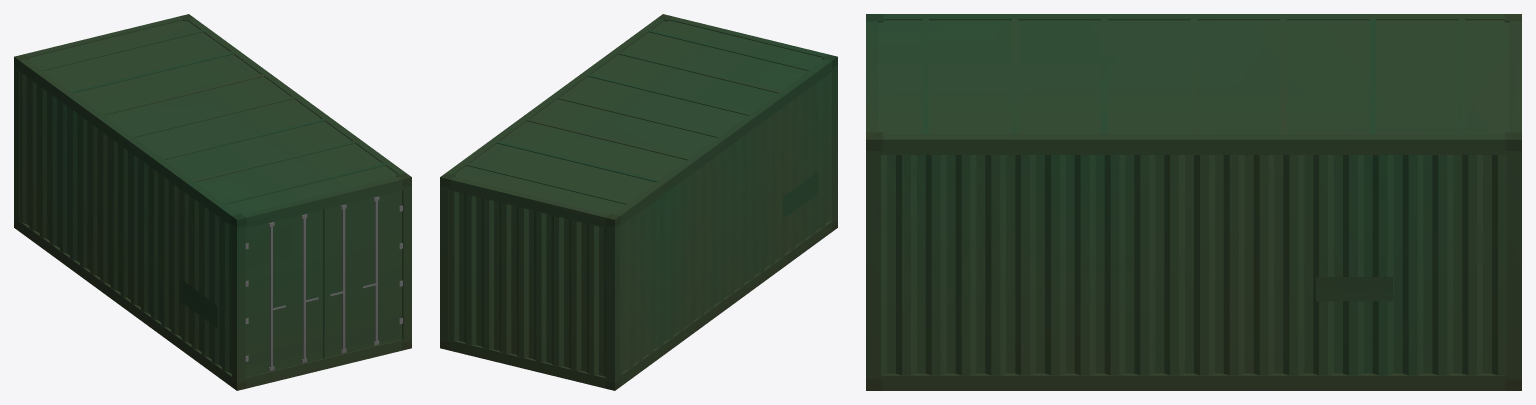
Rendered from container.shipping.green.glb.
3 renders of one model, left to right at view 1: azimuth 30°, elevation 25°; view 2: azimuth 150°, elevation 25°; view 3: azimuth 270°, elevation 25°, orthographic. The views are drawn at different scales.
Visible parts, largest first — view 1: container_shipping_green; view 2: container_shipping_green; view 3: container_shipping_green.
Part boxes in pixels (box(x1,y1,x2,y2)): container_shipping_green: box(14, 14, 411, 390); container_shipping_green: box(440, 14, 837, 390); container_shipping_green: box(866, 14, 1521, 390).
Size of what is drawn, in the model's own units: 2.78 by 2.6 by 6.14.
